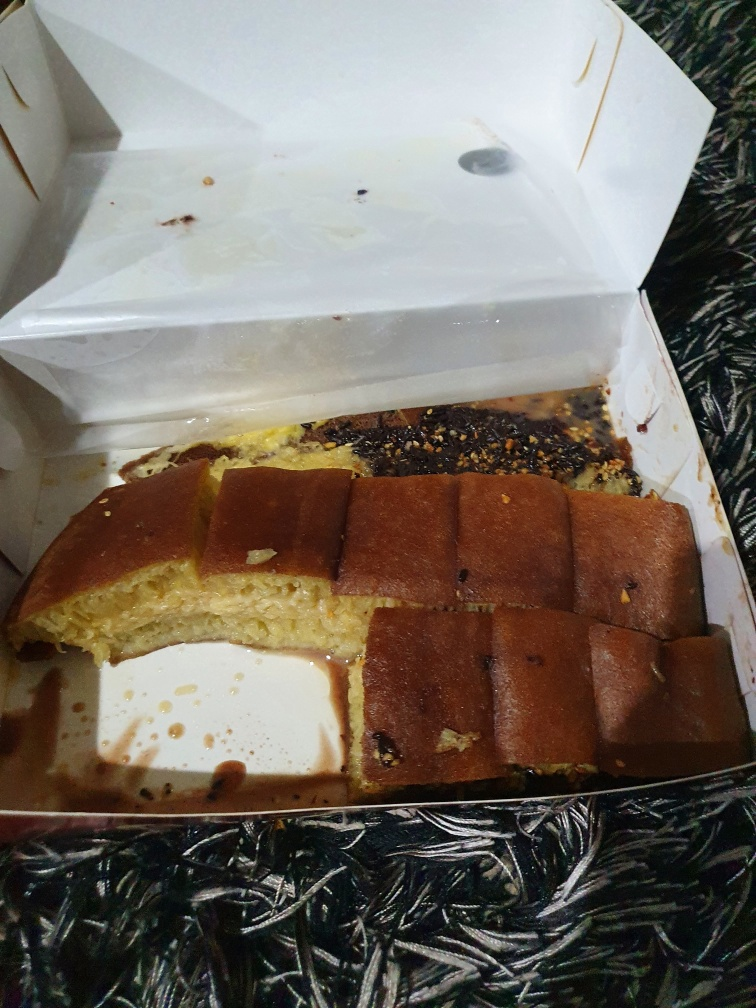martabak manis: (15, 464, 213, 678), (194, 463, 339, 657), (339, 618, 497, 774), (594, 622, 733, 773), (568, 480, 698, 635), (445, 474, 573, 609), (325, 471, 450, 606), (485, 621, 588, 767)
